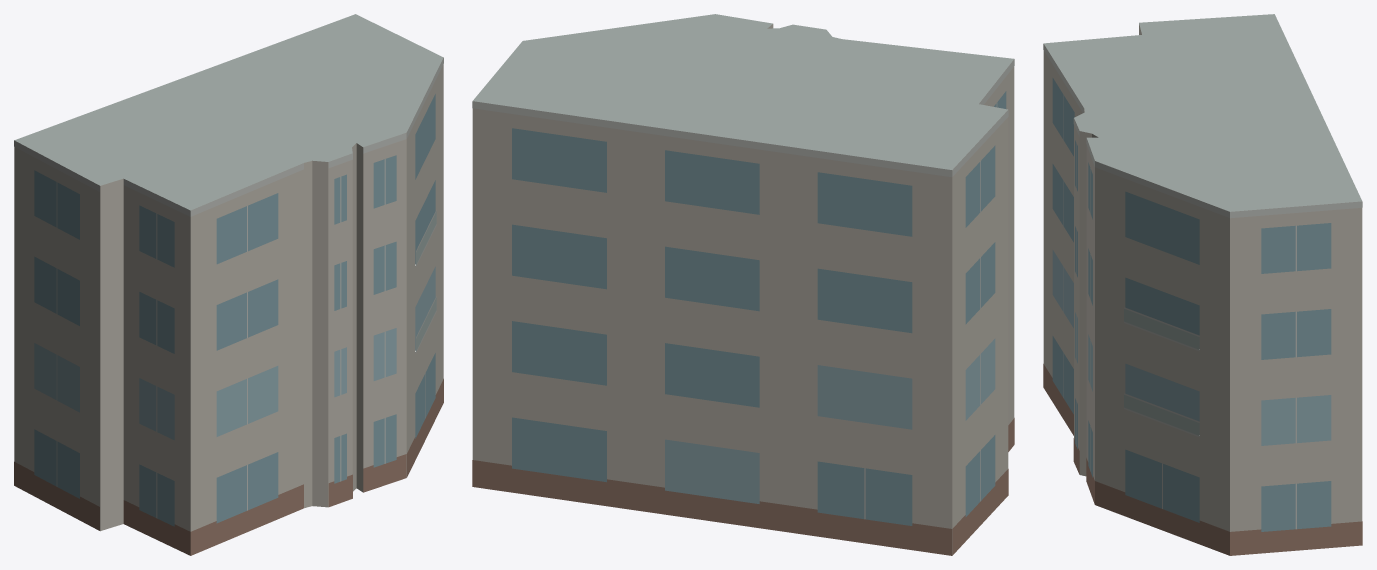
Rendered from survey-upis-32831293.glb.
The picture shows the model from 3 angles, left to right: view 1: azimuth 30°, elevation 25°; view 2: azimuth 150°, elevation 25°; view 3: azimuth 270°, elevation 25°; orthographic projection. The views are drawn at different scales.
Parts seen in each view (by area): view 1: survey-upis-32831293.tmp; view 2: survey-upis-32831293.tmp; view 3: survey-upis-32831293.tmp.
Part boxes in pixels (x1,y1,x2,y2): survey-upis-32831293.tmp: (14, 14, 443, 555); survey-upis-32831293.tmp: (472, 14, 1014, 555); survey-upis-32831293.tmp: (1043, 14, 1362, 555).
Size of the model in its own units: 16.29 by 13.2 by 11.1.
